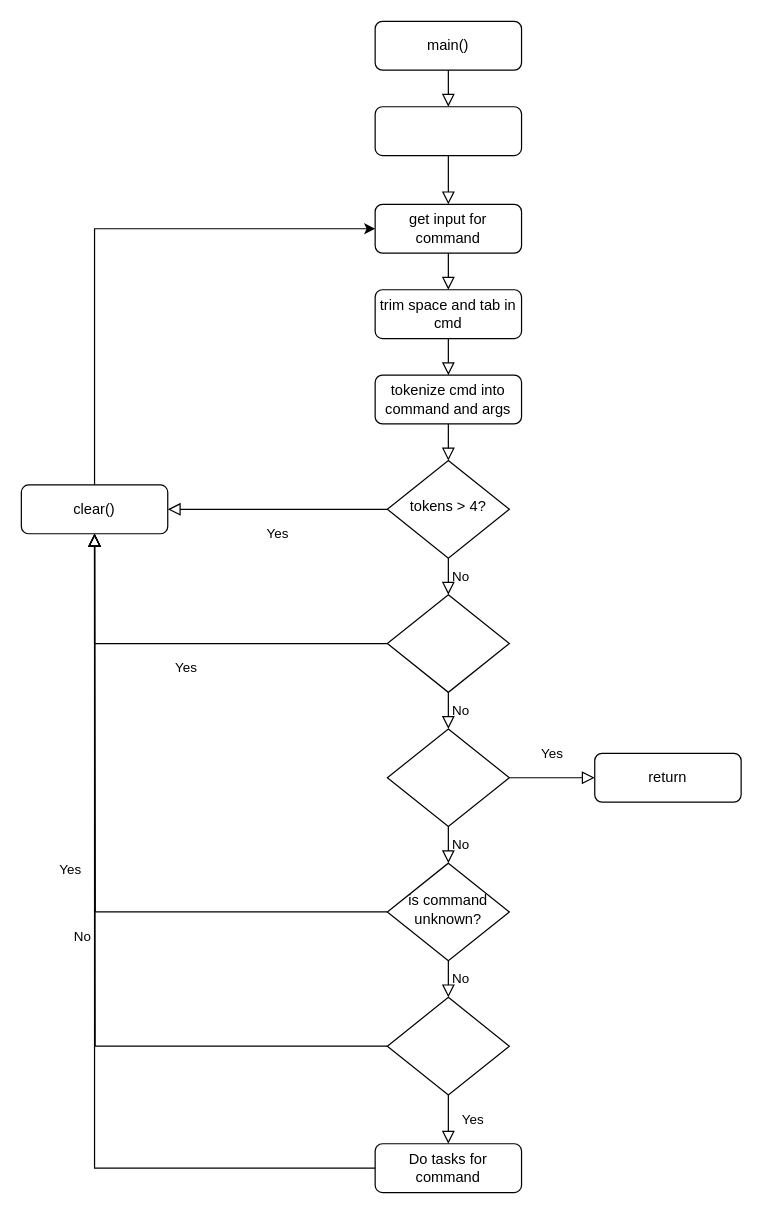
This 763x1214 diagram has some shape labels left out. The shapes that lost their labels are listed below. From the top down, each one's centre as x and y in pixels, then its label:
point (448, 131): initialize data structures
point (447, 643): command is uppder case?
point (447, 777): is command "quit" or "q"?
point (447, 1045): are args appropriate for command?
